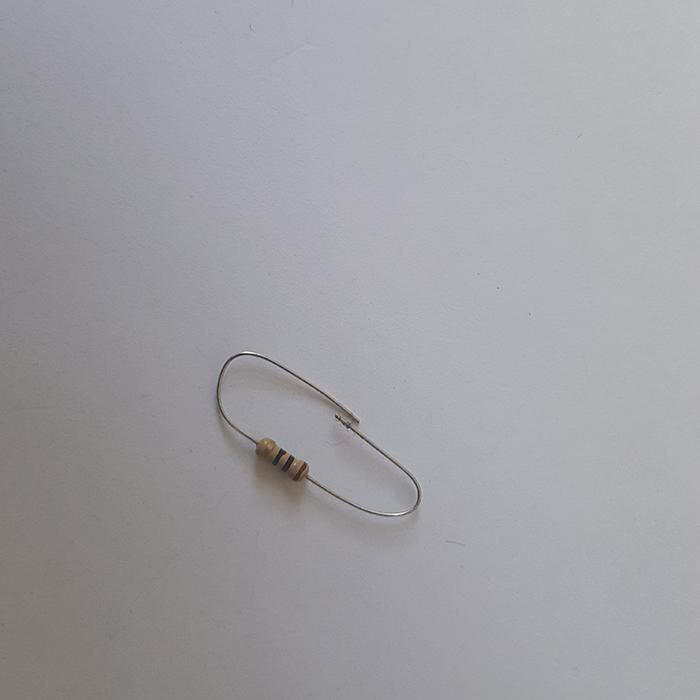resistor: (255, 436, 309, 482)
